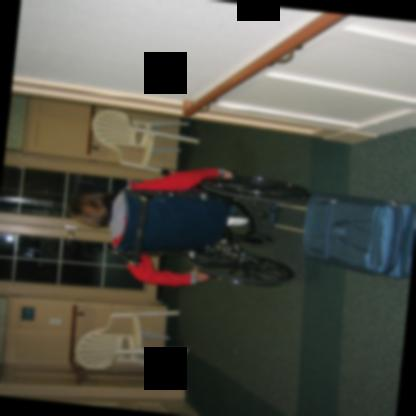suitcase: (268, 189, 416, 278)
